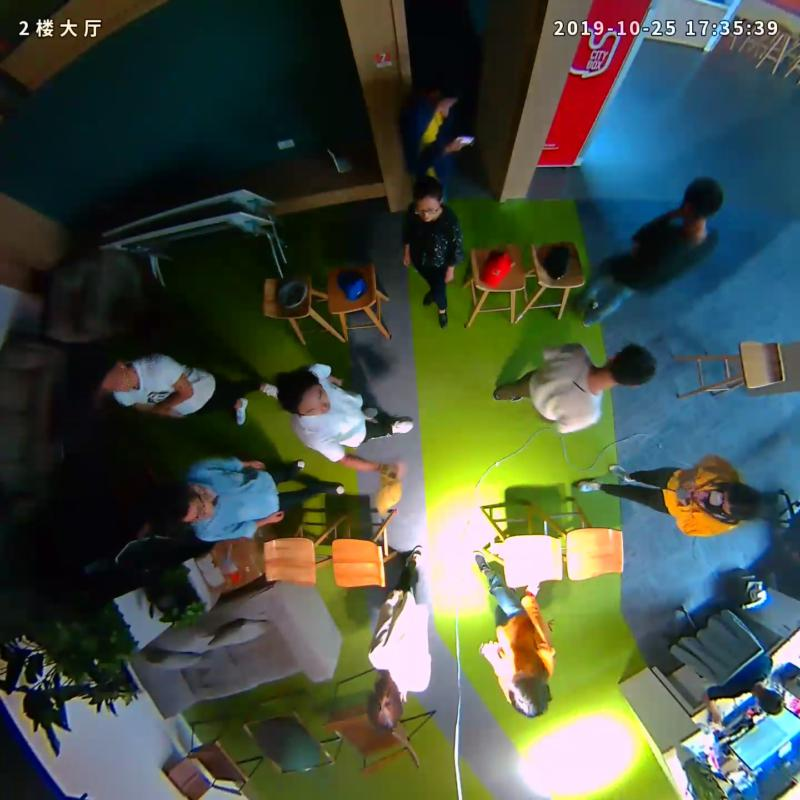head: (276, 370, 331, 416), (507, 666, 553, 717), (680, 176, 724, 225), (607, 344, 657, 387), (162, 484, 214, 525), (721, 481, 769, 520), (92, 355, 138, 395), (430, 73, 472, 112), (410, 178, 446, 222)
